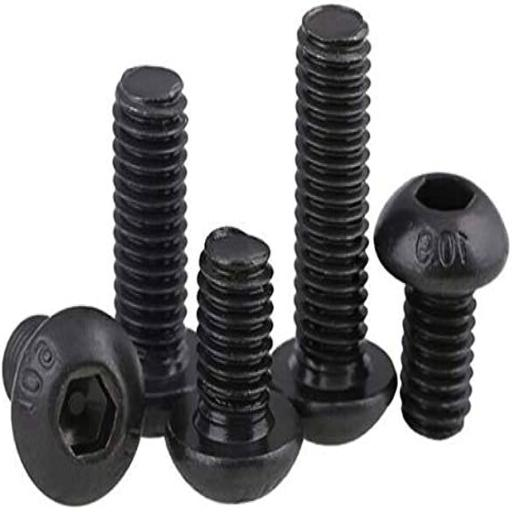Hex-Allen: (13, 303, 144, 509)
